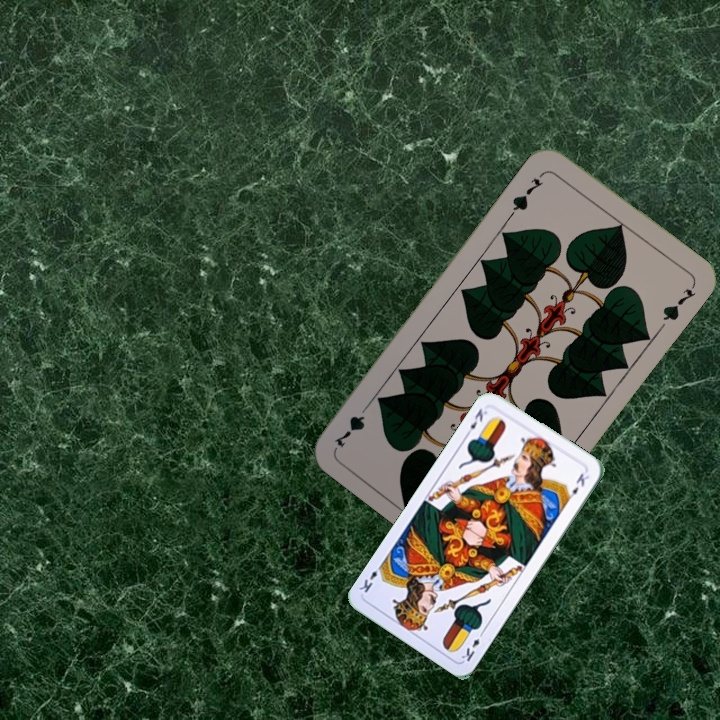EK: (457, 627, 487, 664), (462, 404, 490, 439)
G7: (507, 174, 546, 218)
